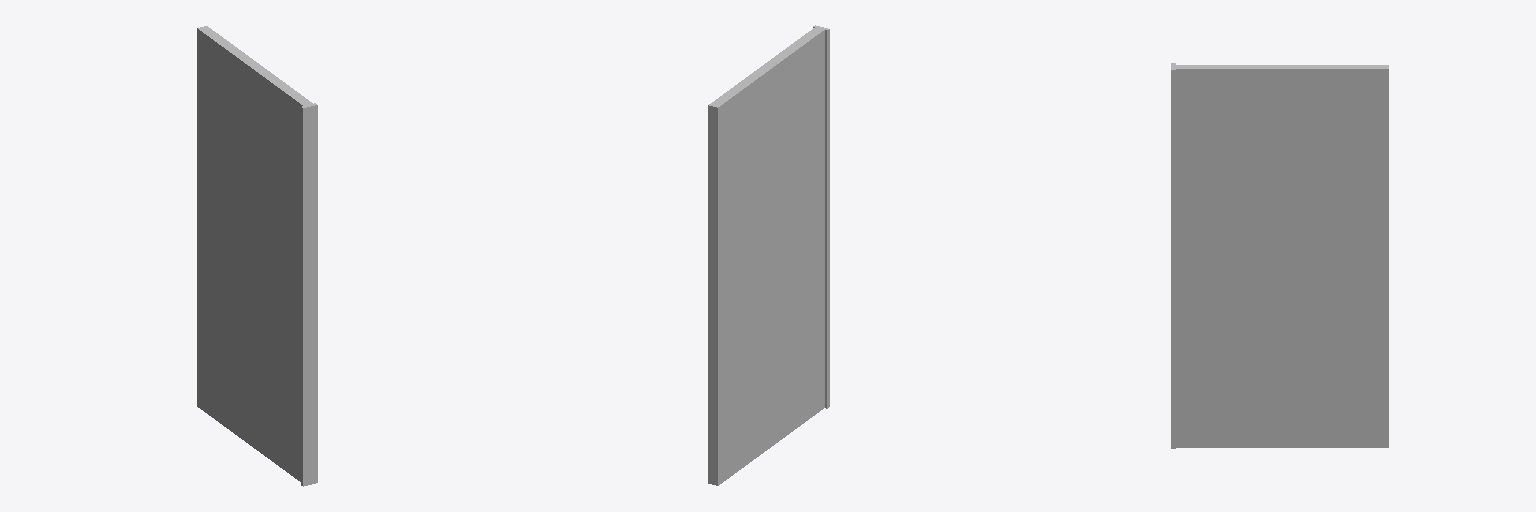
Rendered from elevatorDoor(left).obj.
3 renders of one model, left to right at view 1: azimuth 30°, elevation 25°; view 2: azimuth 150°, elevation 25°; view 3: azimuth 270°, elevation 25°, orthographic.
Parts seen in each view (by area): view 1: polySurface35 polySurface14; view 2: polySurface35 polySurface14; view 3: polySurface35 polySurface14.
Part boxes in pixels (left/top/right/bottom): polySurface35 polySurface14: left=197, top=26, right=317, bottom=486; polySurface35 polySurface14: left=708, top=25, right=829, bottom=485; polySurface35 polySurface14: left=1171, top=63, right=1388, bottom=448.
Bounding box in the file's own units: 0.1914 × 4.67 × 2.43.